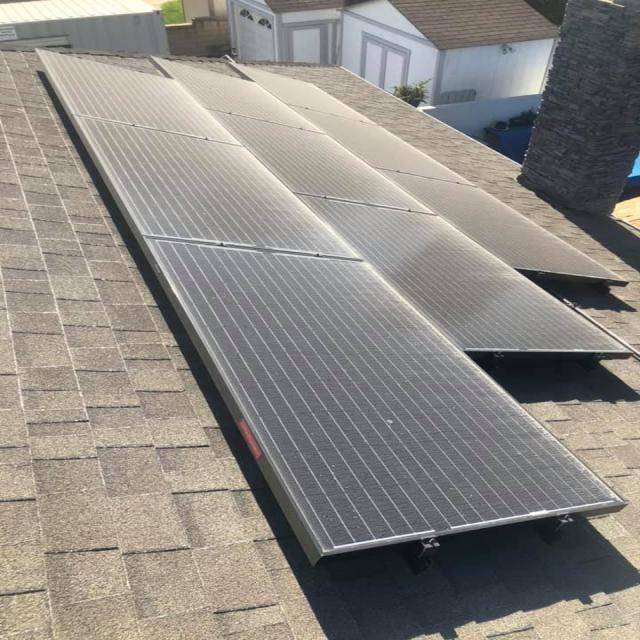dust-solar-panel: (30, 48, 630, 548)
